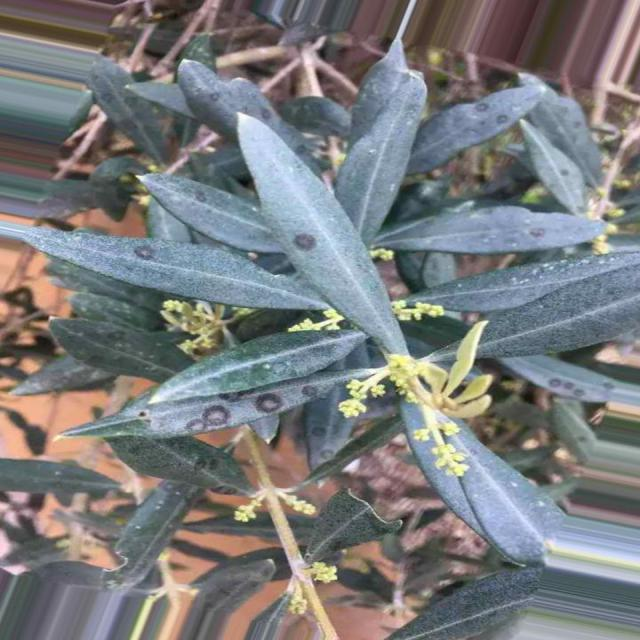Peacock Eye: (237, 113, 405, 354), (22, 227, 329, 310), (60, 369, 368, 438), (406, 77, 548, 175), (376, 206, 604, 254), (108, 436, 250, 490)
